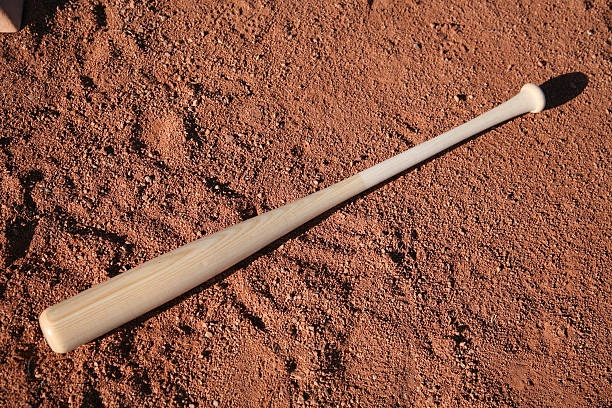bita: (39, 85, 539, 357)
